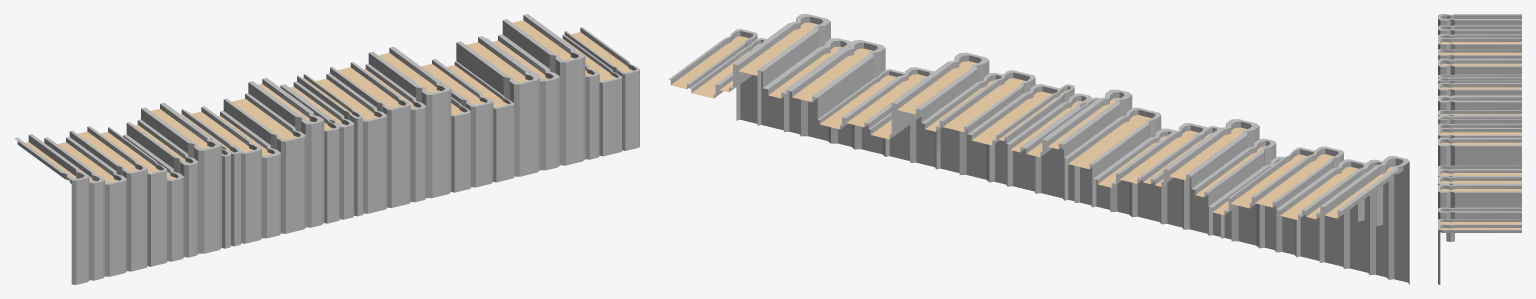
File: prop_biblioteca_libros004.fbx
3 renders of one model, left to right at view 1: azimuth 30°, elevation 25°; view 2: azimuth 150°, elevation 25°; view 3: azimuth 270°, elevation 25°, orthographic. The views are drawn at different scales.
Parts seen in each view (by area): view 1: prop_biblioteca_libros004; view 2: prop_biblioteca_libros004; view 3: prop_biblioteca_libros004.
Boxes of the visible parts, x1,y1,x2,y2 form: prop_biblioteca_libros004: [14, 14, 639, 284]; prop_biblioteca_libros004: [668, 14, 1409, 284]; prop_biblioteca_libros004: [1438, 14, 1521, 284].
Bounding box in the file's own units: 200 × 35.05 × 36.04.
